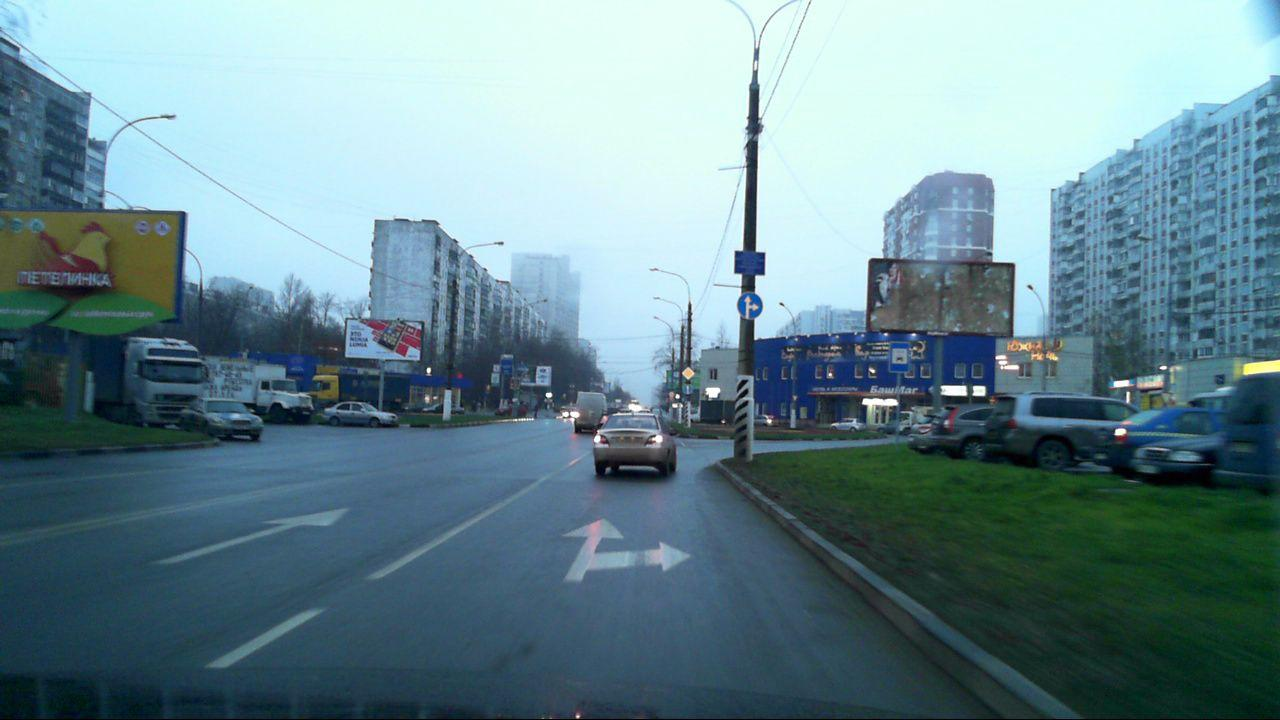2_1: (682, 367, 695, 379)
4_1_1: (683, 384, 694, 395)
4_1_4: (736, 291, 765, 321)
5_18: (889, 341, 912, 373)
